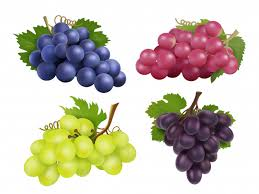Black grapes: (28, 22, 129, 88), (158, 104, 227, 188)
Green grapes: (23, 119, 128, 181)
Red Grapes: (137, 25, 240, 76)
